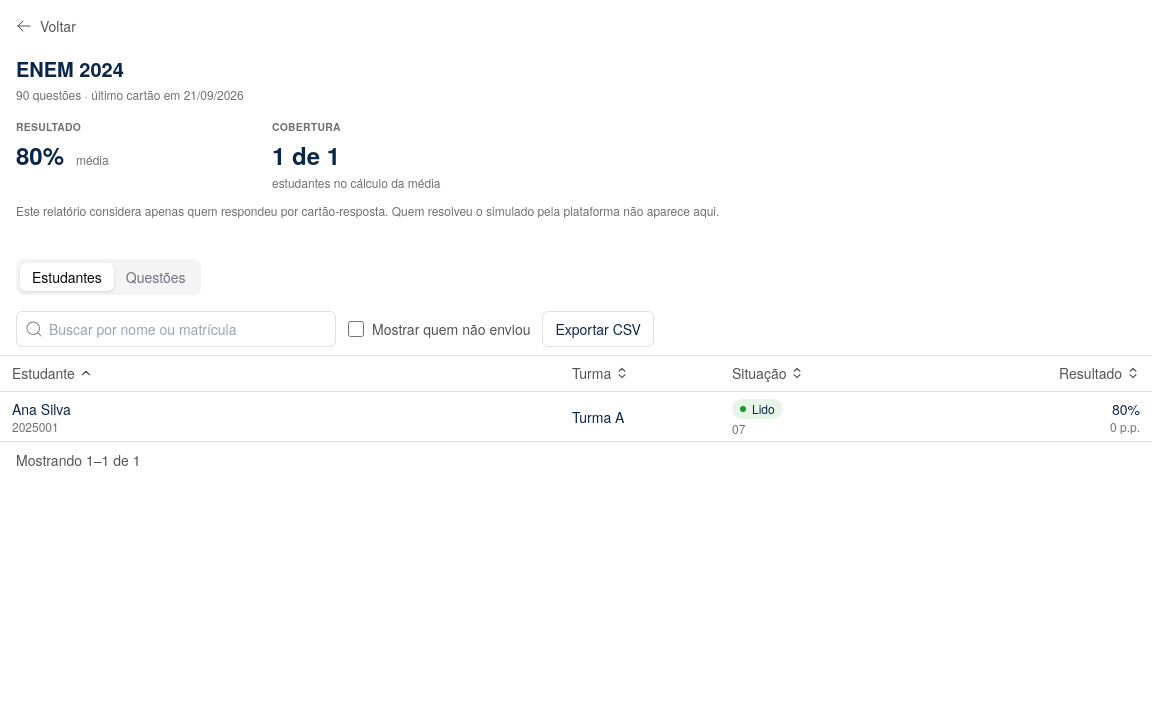
Test case: RelatorioSimulado — acertos da turma no detalhe › mostra o percentual COM a base
The width and height of the screenshot is (1152, 720).
Step 1. Click the text "Ana Silva" → point(41, 409), box [12,399,71,419]
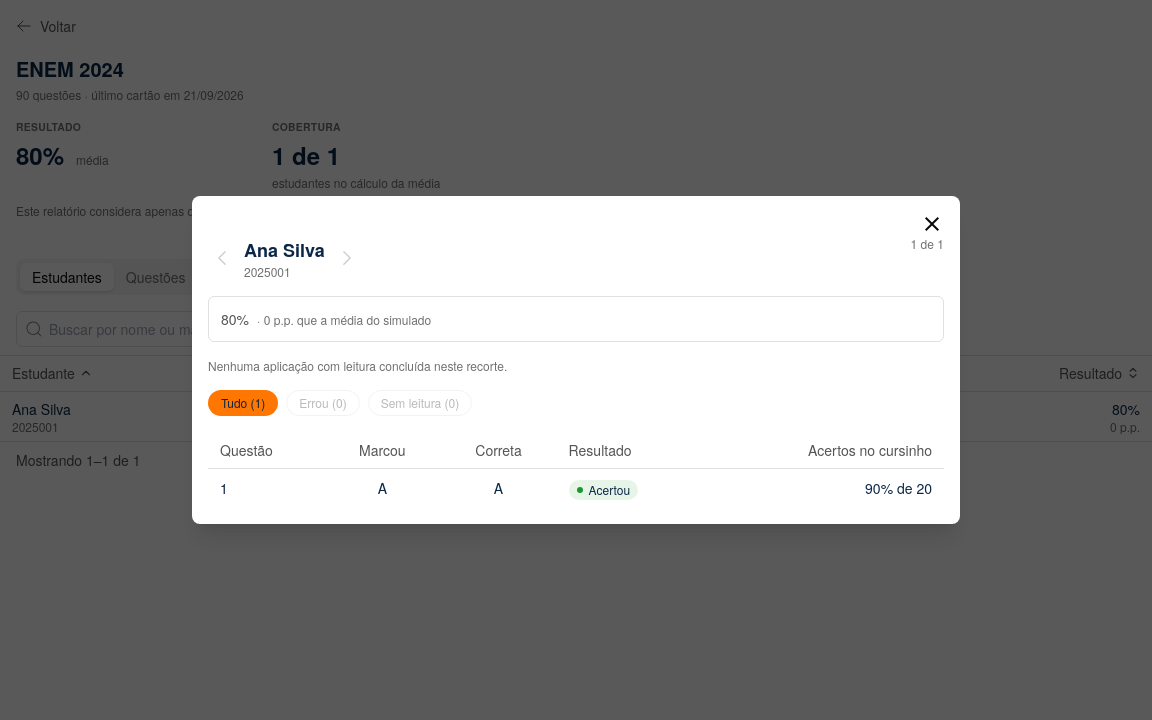
Check: the cell "90% de 20" is shown, box [731,468,944,508]
